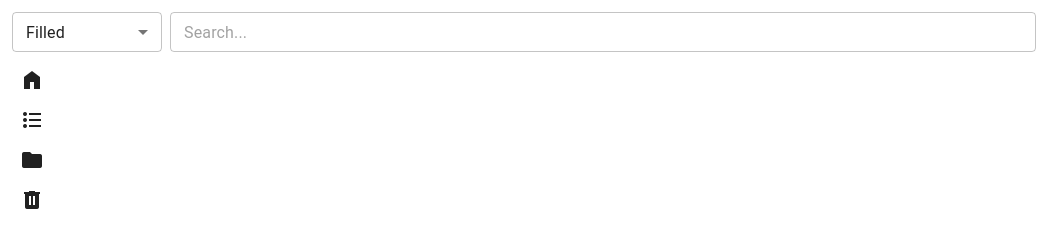
it: IconPicker Component › filters icons by search term after debounce delay
Check: the button with test id "icon-button-home" is shown, box [12,60,52,100]
Type "folder" into the field with placeholder "Search...".
click(603, 32); type("folder")  # box [170,12,1036,52]
Wait 1000 ms
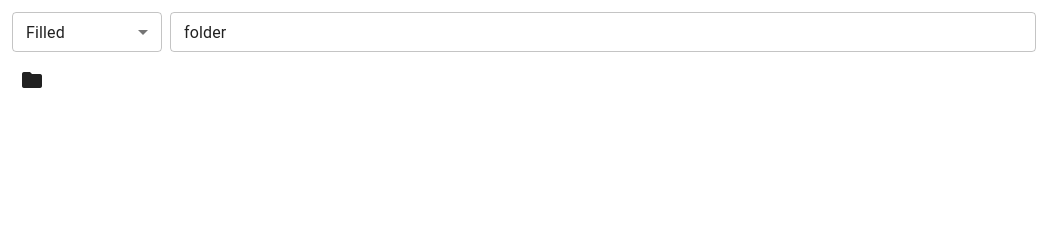
Check: the button with test id "icon-button-folder" is shown, box [12,60,52,100]
